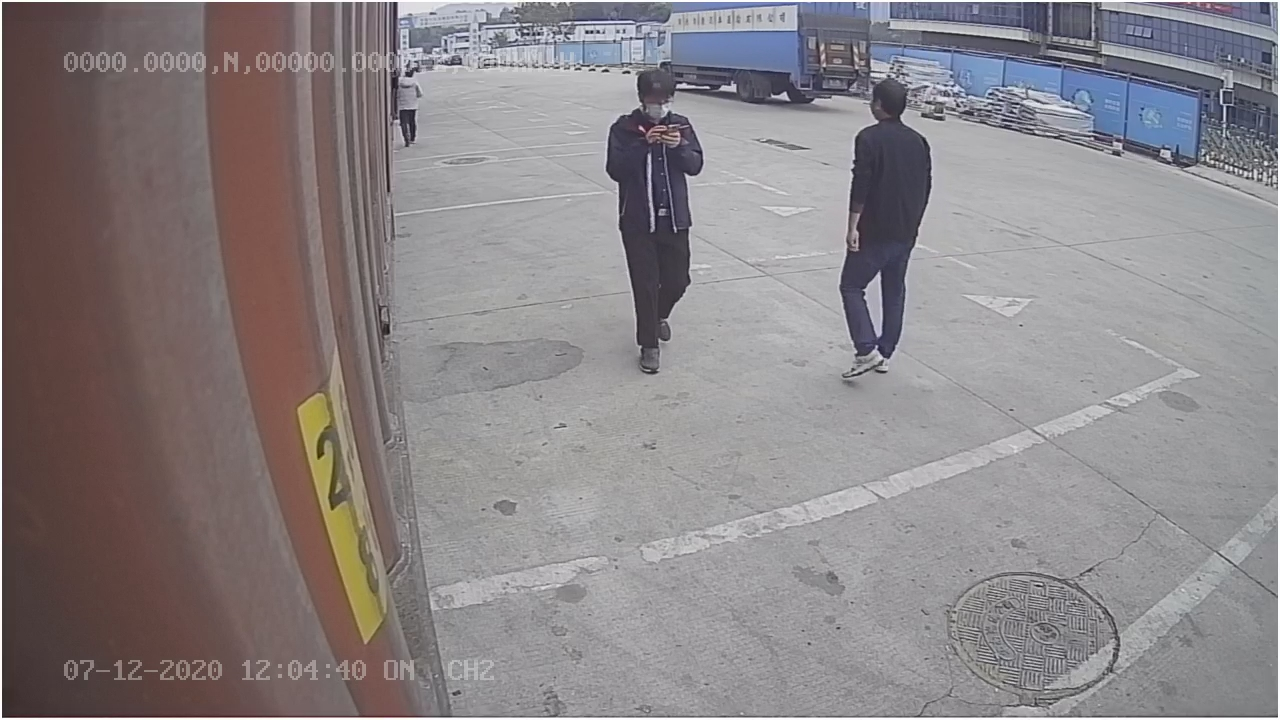person: (840, 78, 936, 384)
